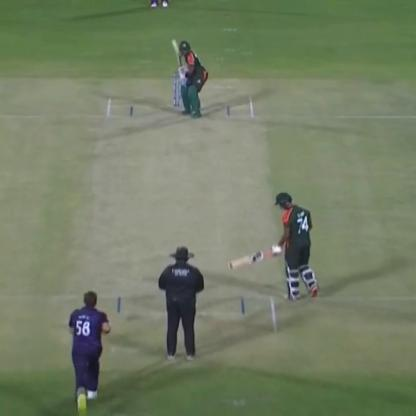bat: (226, 236, 280, 270), (163, 32, 189, 78)
pitch: (81, 93, 289, 346)
